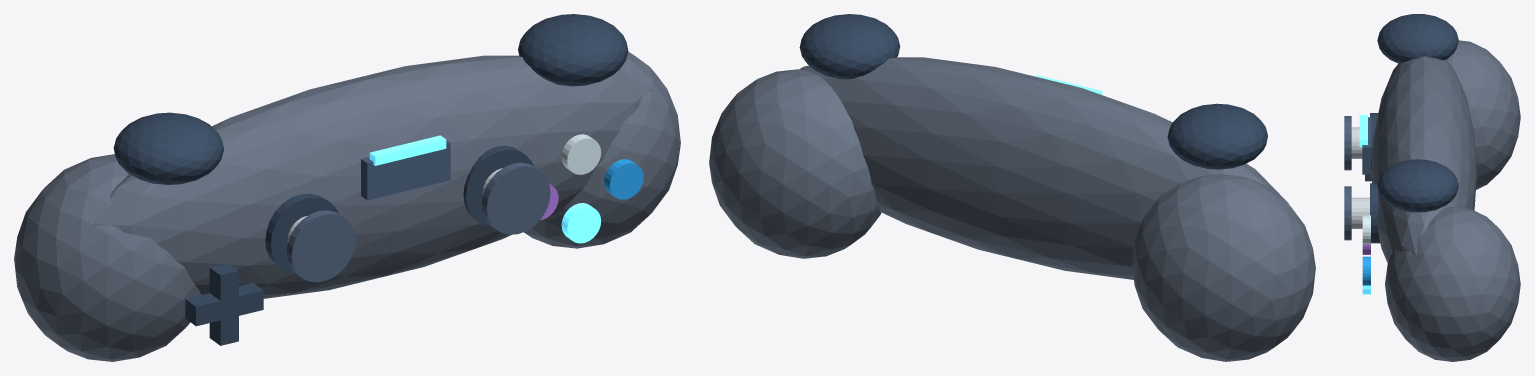
Rendered from techzone_gamepad.glb.
The picture shows the model from 3 angles, left to right: view 1: azimuth 30°, elevation 25°; view 2: azimuth 150°, elevation 25°; view 3: azimuth 270°, elevation 25°; orthographic projection. The views are drawn at different scales.
Visible parts, largest first — view 1: controller_body_1, controller_handle_2, controller_handle_7, shoulder_trigger_3, shoulder_trigger_8, joystick_cap_6, joystick_cap_11, center_touchpad_18, joystick_base_4, dpad_horizontal_12, joystick_base_9, dpad_vertical_13 (+4 smaller); view 2: controller_body_1, controller_handle_2, controller_handle_7, shoulder_trigger_3, shoulder_trigger_8; view 3: controller_handle_7, controller_body_1, controller_handle_2, shoulder_trigger_8, shoulder_trigger_3, joystick_stem_10, joystick_base_9, joystick_cap_6, joystick_cap_11, center_touchpad_18, joystick_stem_5, led_strip_19 (+3 smaller).
Part boxes in pixels (x1=…): controller_body_1: x1=94, y1=55, x2=651, y2=298; controller_handle_2: x1=14, y1=154, x2=201, y2=361; controller_handle_7: x1=524, y1=51, x2=680, y2=248; shoulder_trigger_3: x1=113, y1=112, x2=223, y2=184; shoulder_trigger_8: x1=518, y1=14, x2=628, y2=86; joystick_cap_6: x1=286, y1=210, x2=355, y2=282; joystick_cap_11: x1=481, y1=162, x2=550, y2=234; center_touchpad_18: x1=361, y1=140, x2=450, y2=200; joystick_base_4: x1=265, y1=193, x2=338, y2=273; dpad_horizontal_12: x1=185, y1=282, x2=263, y2=326; joystick_base_9: x1=463, y1=145, x2=533, y2=225; dpad_vertical_13: x1=209, y1=263, x2=238, y2=345; controller_body_1: x1=800, y1=57, x2=1288, y2=279; controller_handle_2: x1=1132, y1=174, x2=1315, y2=361; controller_handle_7: x1=709, y1=69, x2=881, y2=258; shoulder_trigger_3: x1=1167, y1=103, x2=1267, y2=169; shoulder_trigger_8: x1=799, y1=14, x2=900, y2=79; controller_handle_7: x1=1385, y1=207, x2=1520, y2=361; controller_body_1: x1=1371, y1=56, x2=1476, y2=263; controller_handle_2: x1=1446, y1=40, x2=1520, y2=189; shoulder_trigger_8: x1=1377, y1=159, x2=1458, y2=212; shoulder_trigger_3: x1=1377, y1=14, x2=1458, y2=63; joystick_stem_10: x1=1351, y1=197, x2=1369, y2=228; joystick_base_9: x1=1370, y1=183, x2=1380, y2=243; joystick_cap_6: x1=1344, y1=116, x2=1351, y2=170; joystick_cap_11: x1=1344, y1=186, x2=1351, y2=240; center_touchpad_18: x1=1362, y1=117, x2=1371, y2=174; joystick_stem_5: x1=1351, y1=127, x2=1362, y2=158; led_strip_19: x1=1359, y1=115, x2=1367, y2=147.
Size of the model in its own units: 3.64 by 1.31 by 1.17.
